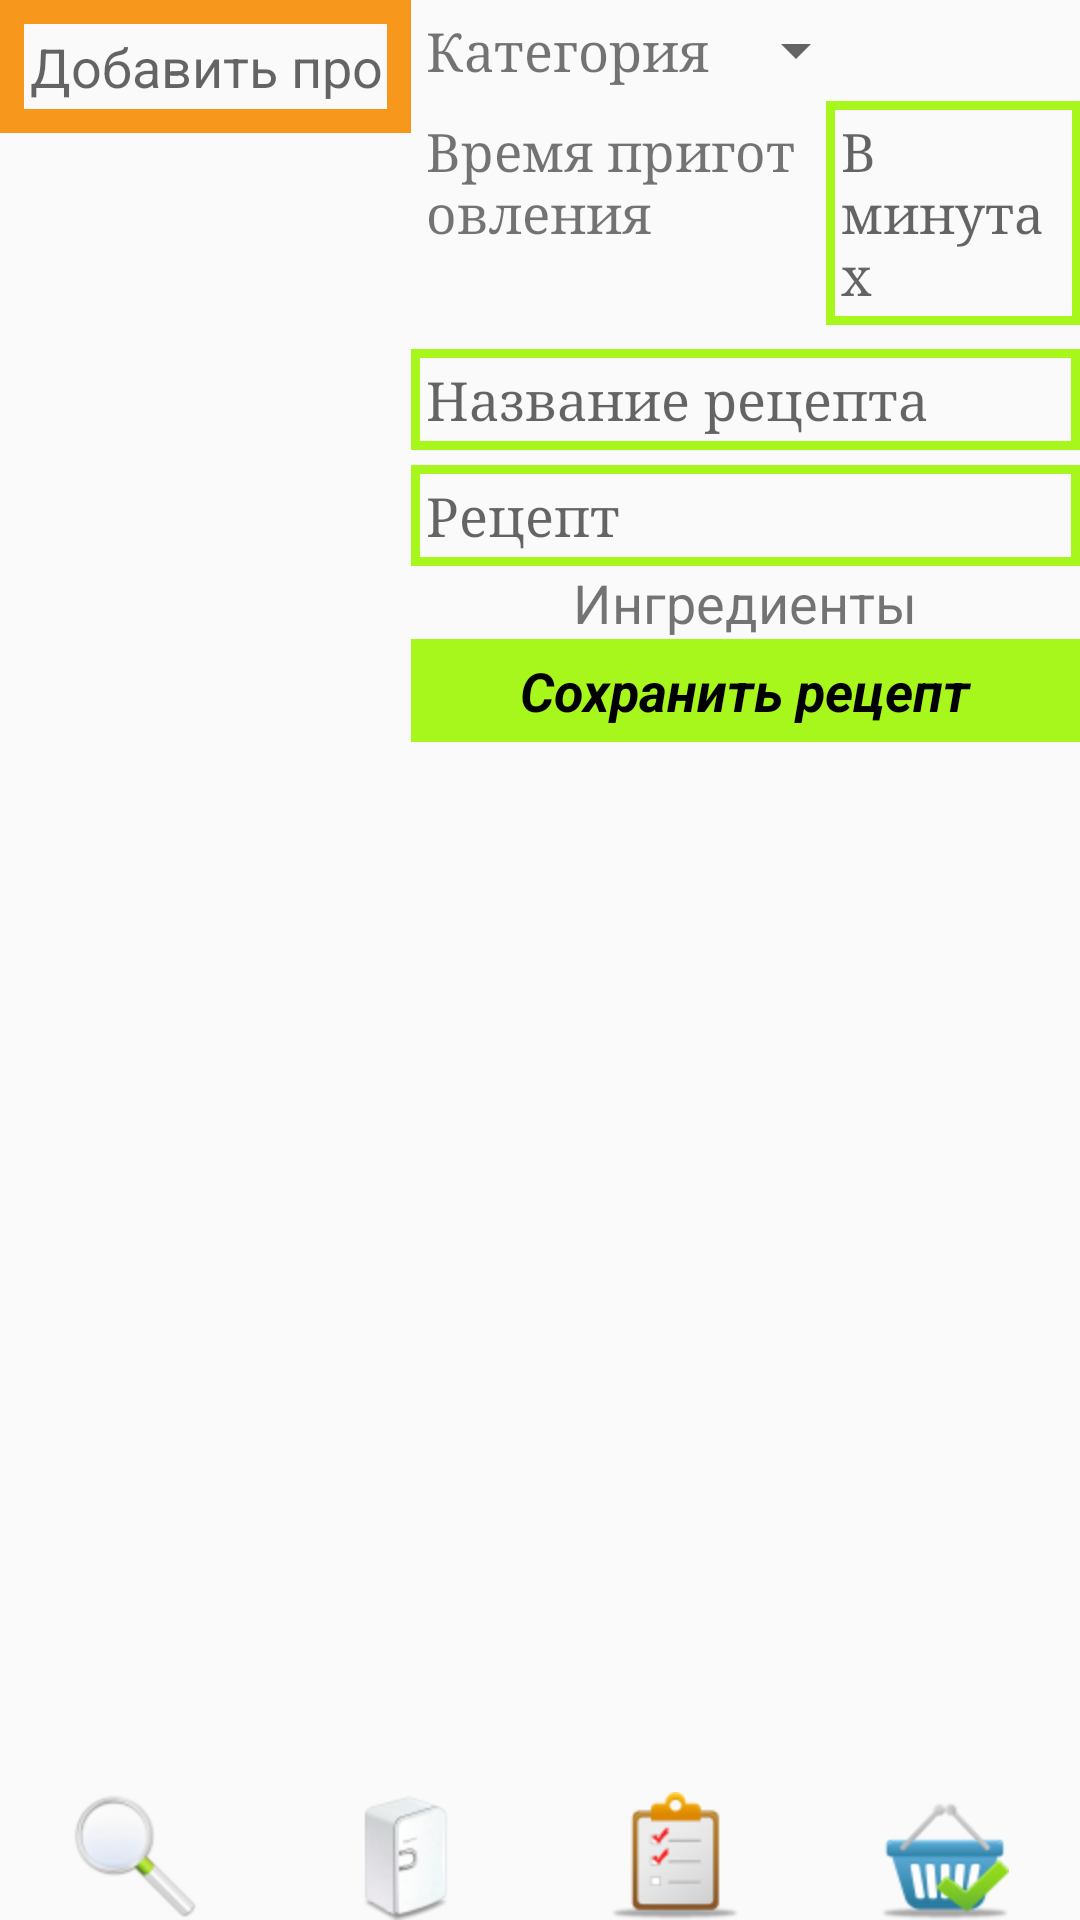

Point at icon controls on the screen. Image size 1080px x 1920px, points as (x,y).
basket: (947,1861)
fridge: (404,1862)
list: (675,1855)
search: (135,1856)
